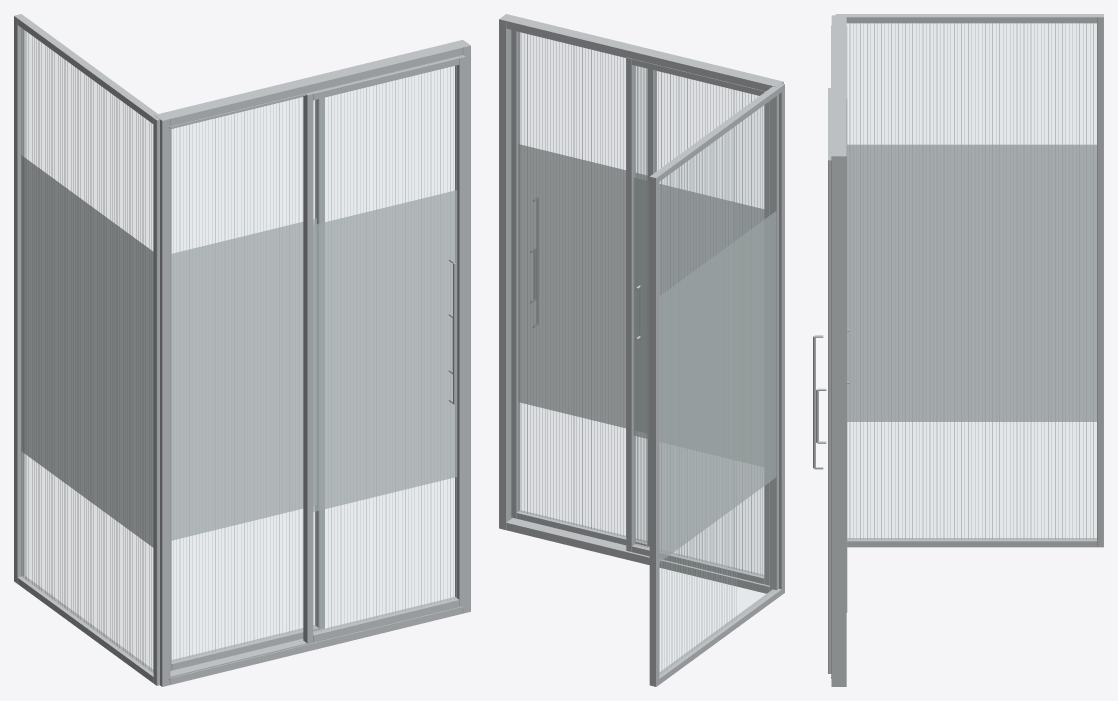
The model's file is silver-corner-sliding-shower-enclosure-15.glb.
The picture shows the model from 3 angles, left to right: view 1: azimuth 30°, elevation 25°; view 2: azimuth 150°, elevation 25°; view 3: azimuth 270°, elevation 25°; orthographic projection. The views are drawn at different scales.
Parts seen in each view (by area): view 1: Sliding right pane privacy band, Corner return / Fixed return privacy band, Fixed left pane privacy band, Sliding right pane etched stripes, Fixed left pane etched stripes, Perimeter jamb, Corner return / Fixed return upper clear, Corner return / Fixed return lower clear, Corner return / Fixed return etched stripes, Sliding right pane frame, Corner return / Fixed return frame, Sliding right pane upper clear (+5 smaller); view 2: Corner return / Fixed return privacy band, Sliding right pane privacy band, Fixed left pane privacy band, Perimeter jamb, Corner return / Fixed return upper clear, Corner return / Fixed return lower clear, Sliding right pane upper clear, Corner return / Fixed return frame, Sliding right pane lower clear, Corner return / Fixed return etched stripes, Sliding right pane etched stripes, Fixed left pane frame (+4 smaller); view 3: Corner return / Fixed return privacy band, Corner return / Fixed return etched stripes, Corner return / Fixed return upper clear, Corner return / Fixed return lower clear, Perimeter jamb, Corner return / Fixed return frame, Sliding right pane frame, Fixed left pane frame.
Part boxes in pixels (x1,y1,x2,y2): Sliding right pane privacy band: (313,190,457,511); Corner return / Fixed return privacy band: (21,155,153,547); Fixed left pane privacy band: (171,218,316,540); Sliding right pane etched stripes: (315,65,456,632); Fixed left pane etched stripes: (173,97,302,661); Perimeter jamb: (154,40,470,686); Corner return / Fixed return upper clear: (22,29,152,250); Corner return / Fixed return lower clear: (22,452,152,671); Corner return / Fixed return etched stripes: (21,28,153,672); Sliding right pane frame: (303,55,465,643); Corner return / Fixed return frame: (14,14,159,685); Sliding right pane upper clear: (314,66,455,224); Corner return / Fixed return privacy band: (659,211,776,562); Sliding right pane privacy band: (518,144,647,432); Fixed left pane privacy band: (633,177,764,466); Perimeter jamb: (499,14,783,593); Corner return / Fixed return upper clear: (660,97,775,294); Corner return / Fixed return lower clear: (660,478,775,674); Sliding right pane upper clear: (519,32,625,169); Corner return / Fixed return frame: (649,83,784,686); Sliding right pane lower clear: (519,403,625,536); Corner return / Fixed return etched stripes: (659,126,736,674); Sliding right pane etched stripes: (518,32,646,542); Fixed left pane frame: (626,57,769,585); Corner return / Fixed return privacy band: (847,144,1096,421); Corner return / Fixed return etched stripes: (849,23,1093,539); Corner return / Fixed return upper clear: (847,24,1096,143); Corner return / Fixed return lower clear: (848,422,1096,538); Perimeter jamb: (831,15,846,686); Corner return / Fixed return frame: (835,14,1103,547); Sliding right pane frame: (828,88,831,673); Fixed left pane frame: (846,26,847,612).
Bounding box in the file's own units: 1.16 × 2.02 × 1.
